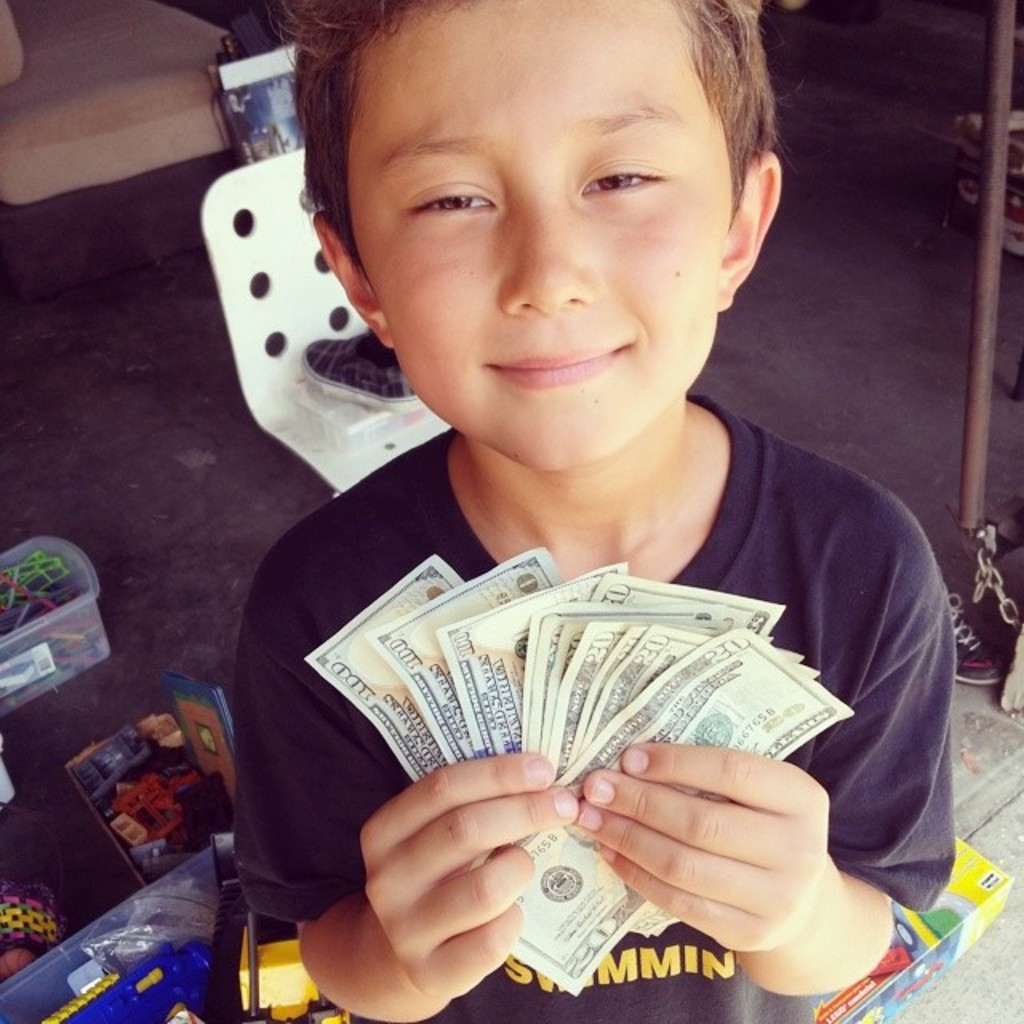Human_hand: (570, 736, 882, 974), (355, 749, 584, 998)
